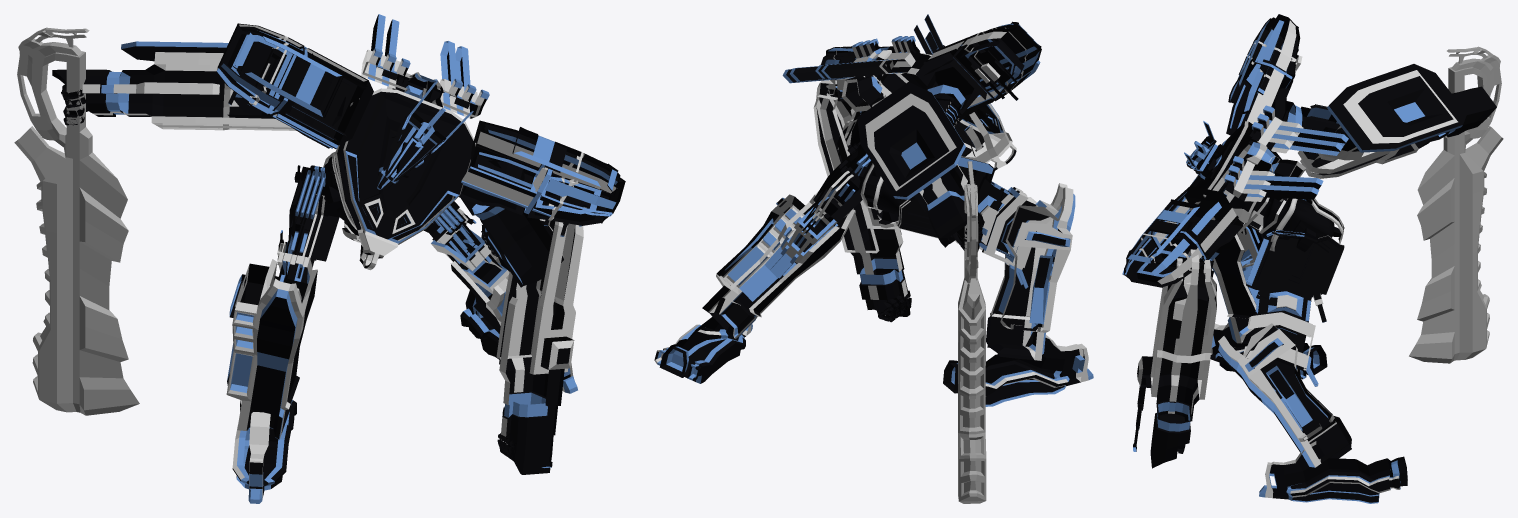
File: noblesse.obj
3 views of the same model, side by side, from view 1: azimuth 30°, elevation 25°; view 2: azimuth 150°, elevation 25°; view 3: azimuth 270°, elevation 25° (orthographic). The views are drawn at different scales.
Visible parts, largest first — view 1: Mech_four.001, sword_Plane.001; view 2: Mech_four.001, sword_Plane.001; view 3: Mech_four.001, sword_Plane.001.
Boxes of the visible parts, x1=… form: Mech_four.001: x1=52, y1=14, x2=625, y2=503; sword_Plane.001: x1=14, y1=27, x2=139, y2=415; Mech_four.001: x1=654, y1=14, x2=1093, y2=406; sword_Plane.001: x1=958, y1=161, x2=986, y2=503; Mech_four.001: x1=1122, y1=14, x2=1496, y2=503; sword_Plane.001: x1=1409, y1=46, x2=1503, y2=363.
Bounding box in the file's own units: 19 × 18.82 × 17.79.
